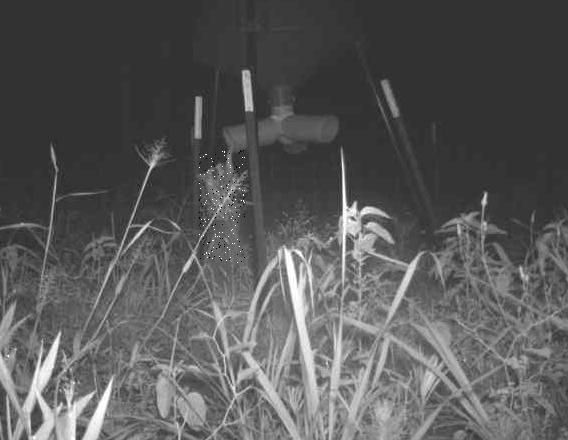Raccoon: (200, 147, 246, 263)
